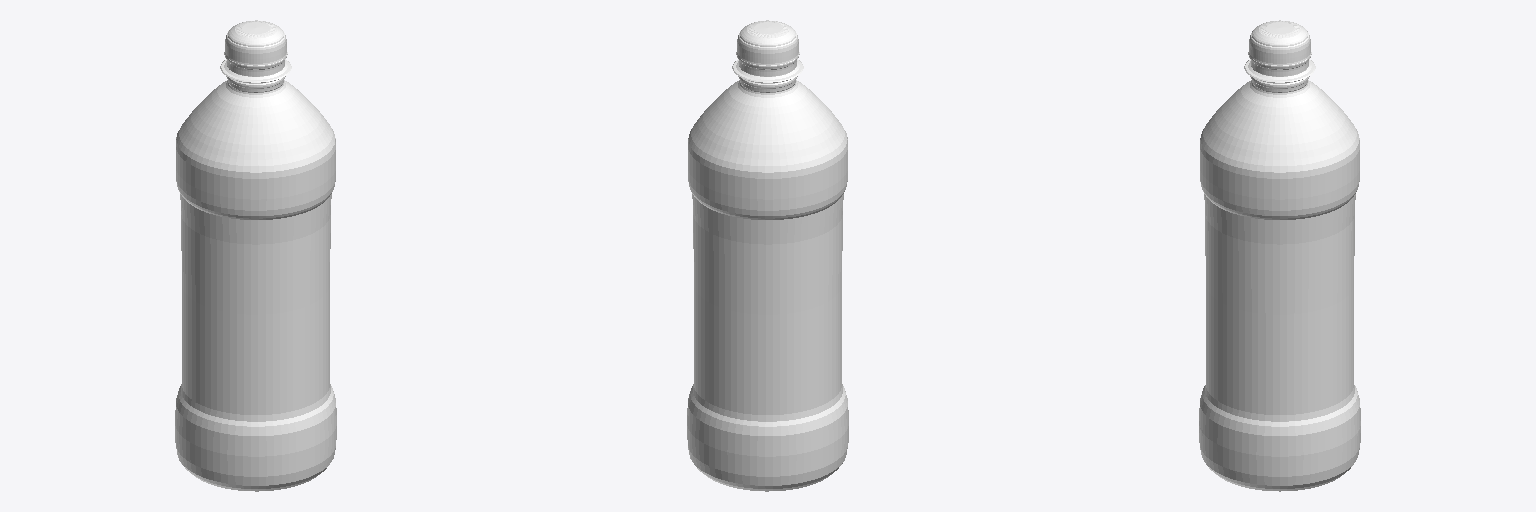
robot.urdf — cube.urdf:
<?xml version="0.0" ?>
<robot name="cube.urdf">
  <link name="baseLink">
    <contact>
      <lateral_friction value="1.0"/>
      <rolling_friction value="0.0"/>
      <contact_cfm value="0.0"/>
      <contact_erp value="1.0"/>
    </contact>
    <inertial>
      <origin rpy="0 0 0" xyz="0.0 0.02 0.0"/>
       <mass value=".1"/>
       <inertia ixx="1" ixy="0" ixz="0" iyy="1" iyz="0" izz="1"/>
    </inertial>
    <visual>
      <origin rpy="0 0 0" xyz="0 0 0"/>
      <geometry>
        <mesh filename="water_bootle.dae" scale=".05 .05 .05"/>
      </geometry>
       <material name="gray">
        <color rgba="176 176 176 1"/>
      </material>
    </visual>
    <collision>
      <origin rpy="0 0 0" xyz="0 0 0"/>
      <geometry>
    <mesh filename="water_bootle.dae" scale=".05 .05 .05"/>
      </geometry>
    </collision>
  </link>
</robot>

--- Render facts (derived) ---
The picture shows the robot from 3 angles, left to right: view 1: azimuth 30°, elevation 25°; view 2: azimuth 150°, elevation 25°; view 3: azimuth 270°, elevation 25°; orthographic projection.
Model cube.urdf with 1 links and 0 joints (none), rooted at baseLink, posed every joint at zero.
Links seen in each view (by area): view 1: baseLink; view 2: baseLink; view 3: baseLink.
Boxes of the visible links, bbox=[...] form: baseLink: bbox=[175, 20, 336, 491]; baseLink: bbox=[687, 20, 848, 491]; baseLink: bbox=[1199, 20, 1360, 491].
Size in the robot's own frame: 0.1071 by 0.1071 by 0.3173 metres.
1 mesh visuals loaded from 1 distinct referenced files (1 Collada DAE).